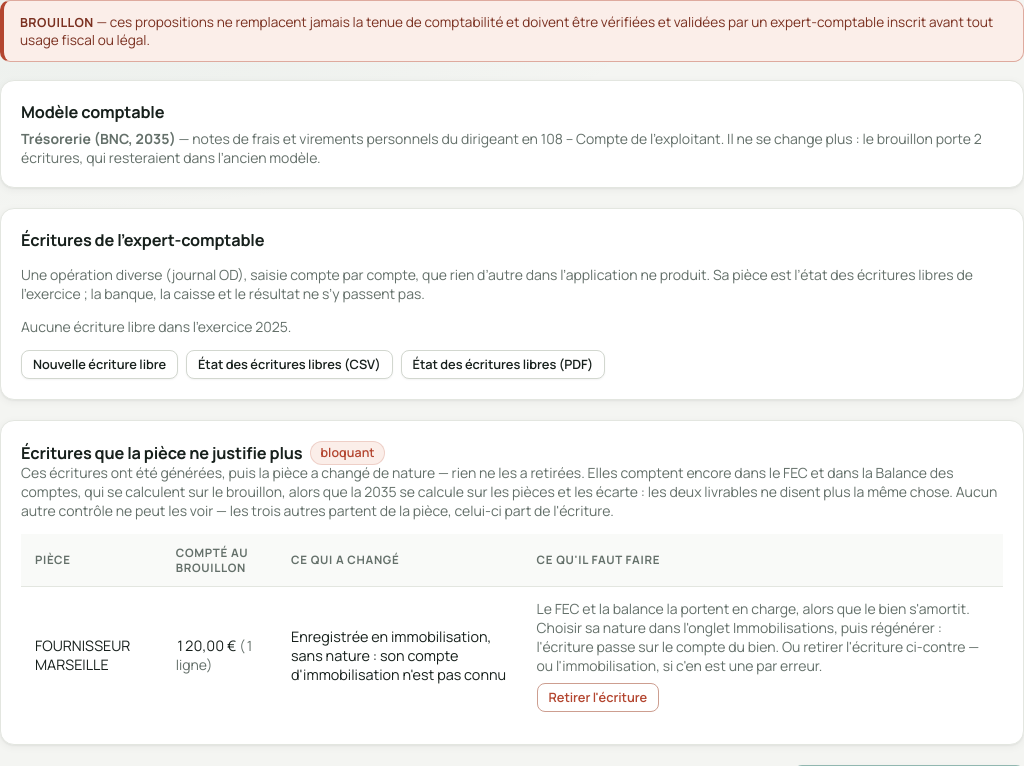
EcrituresTab — retrait d'une écriture sans objet › retire TOUTES les lignes, contrepartie banque comprise — sans allumer une autre alerte
Check: the heading "Écritures que la pièce ne justifie plus" is shown, box [21,442,302,464]
Click the button "Retirer l'écriture" at (598, 697), box [537,683,659,712]
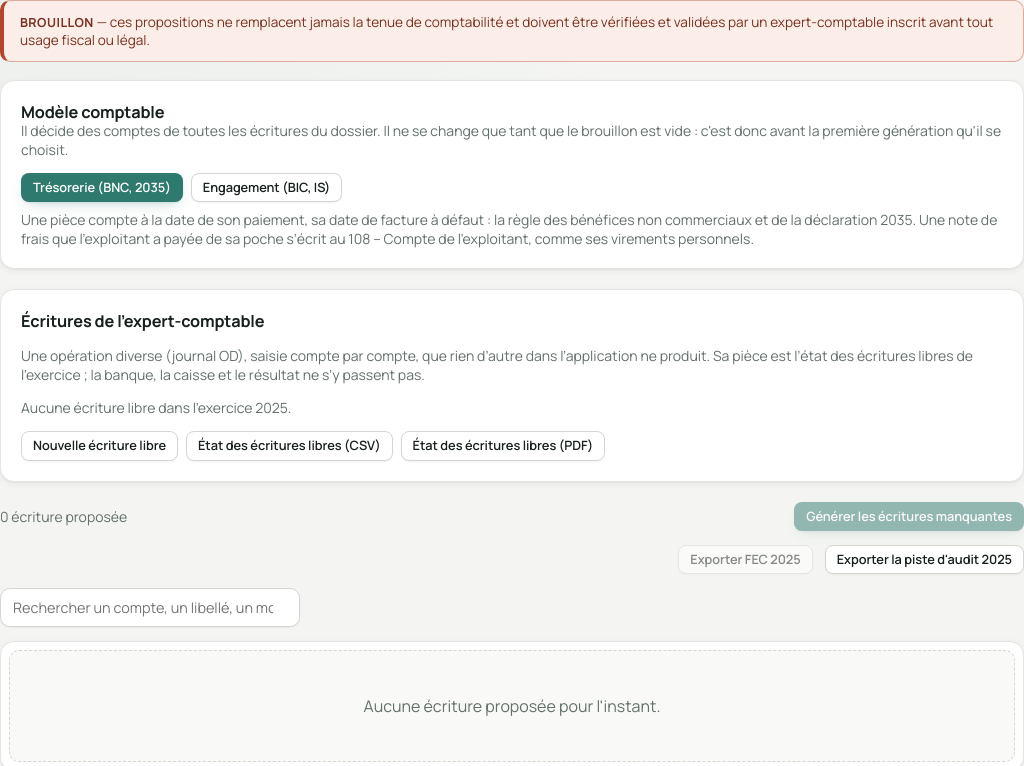
Check: the heading "Écritures que la pièce ne justifie plus" is gone
